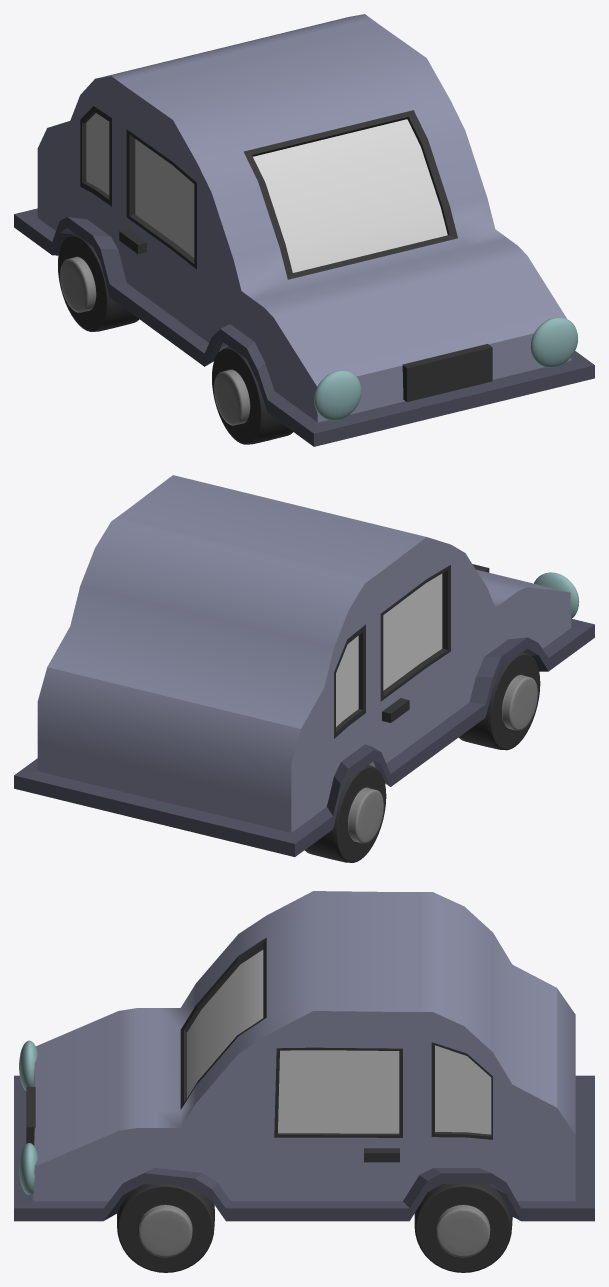
Rendered from car#3.fbx.
The picture shows the model from 3 angles, top to bottom: view 1: azimuth 30°, elevation 25°; view 2: azimuth 150°, elevation 25°; view 3: azimuth 270°, elevation 25°; orthographic projection. The views are drawn at different scales.
Parts seen in each view (by area): view 1: pCube21, pCylinder22, pCylinder26, pSphere12, pCube11; view 2: pCube21, pCylinder22, pCylinder26, pSphere12; view 3: pCube21, pCylinder23, pCylinder25, pSphere12, pCube11.
Part boxes in pixels (x1,y1,x2,y2): pCube21: [14, 14, 594, 446]; pCylinder22: [212, 346, 292, 444]; pCylinder26: [58, 234, 139, 331]; pSphere12: [314, 317, 577, 420]; pCube11: [402, 344, 492, 401]; pCube21: [14, 475, 594, 856]; pCylinder22: [458, 652, 540, 750]; pCylinder26: [304, 765, 386, 862]; pSphere12: [534, 572, 579, 618]; pCube21: [14, 891, 594, 1221]; pCylinder23: [117, 1184, 214, 1272]; pCylinder25: [414, 1184, 512, 1272]; pSphere12: [19, 1040, 37, 1194]; pCube11: [26, 1087, 35, 1145].
Bounding box in the file's own units: 6.27 × 5.22 × 10.77.
